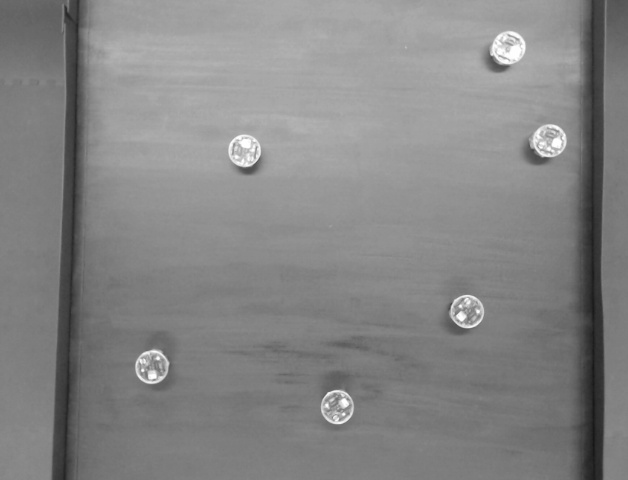epuck_2: (484, 23, 536, 70), (223, 127, 269, 180), (131, 345, 177, 392), (445, 286, 486, 337), (521, 122, 571, 163), (320, 389, 358, 428)
